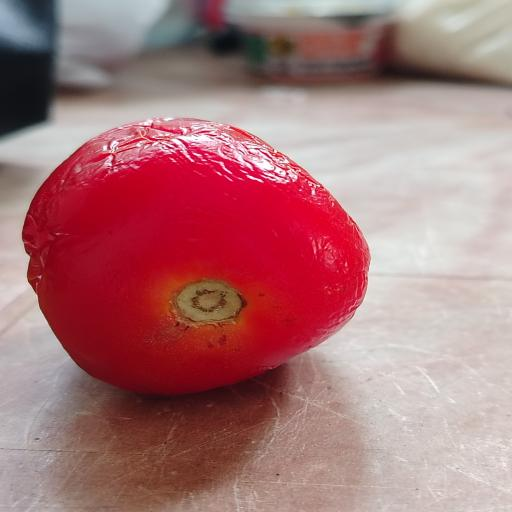spoiled: (23, 118, 369, 394)
